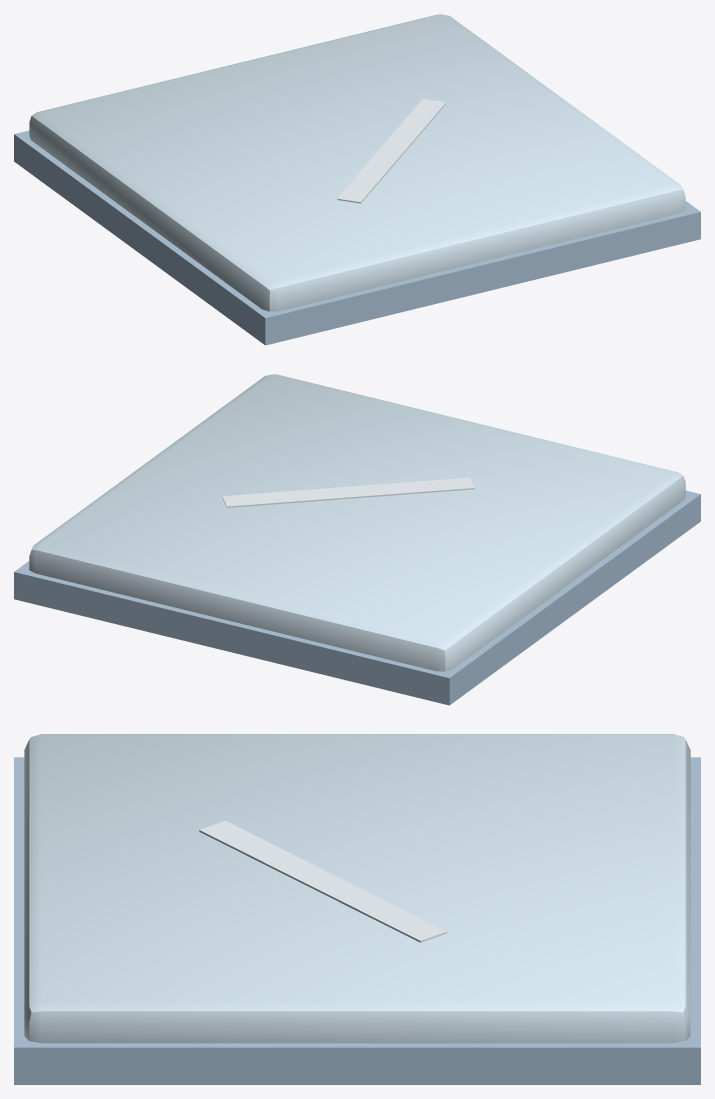
The model's file is floor_tile_ice.glb.
3 renders of one model, top to bottom at view 1: azimuth 30°, elevation 25°; view 2: azimuth 150°, elevation 25°; view 3: azimuth 270°, elevation 25°, orthographic. The views are drawn at different scales.
Visible parts, largest first — view 1: floor_a; view 2: floor_a; view 3: floor_a.
Boxes of the visible parts, left/top/right/bottom form: floor_a: left=14, top=14, right=700, bottom=345; floor_a: left=14, top=374, right=700, bottom=705; floor_a: left=14, top=734, right=700, bottom=1084.
Bounding box in the file's own units: 1 × 0.118 × 1.
